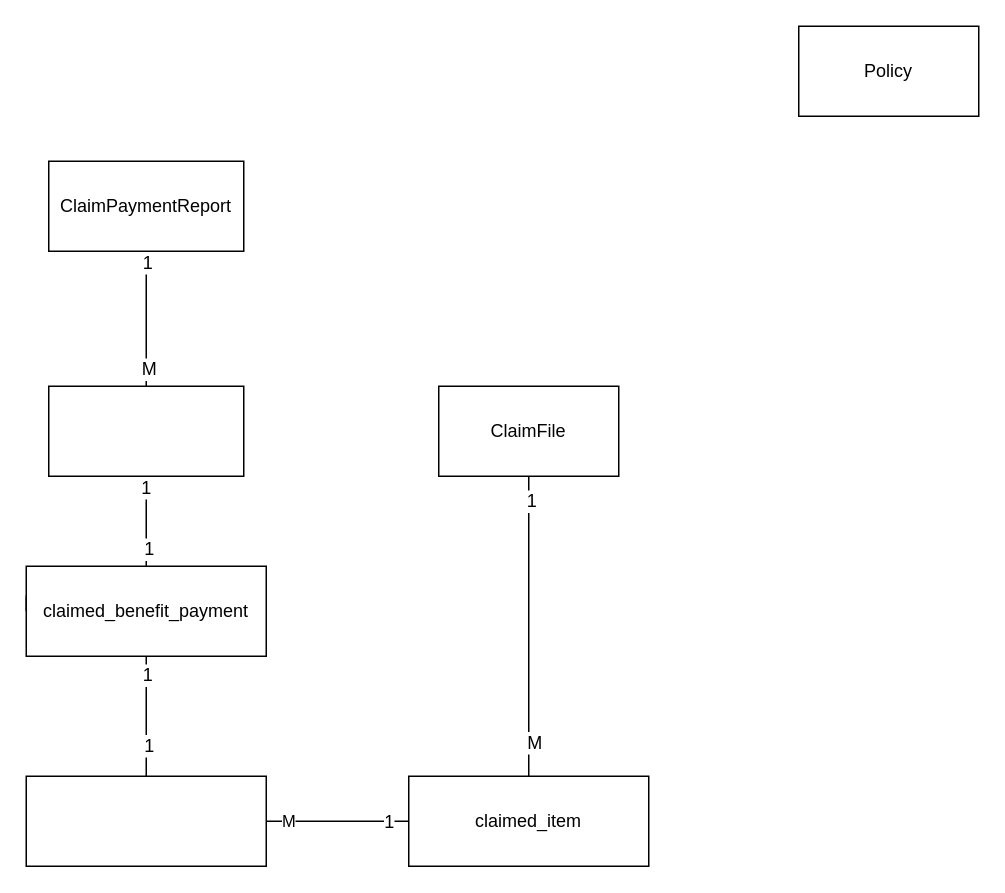
This 1005x893 diagram has some shape labels left out. Each missing label, with the box of its shape:
claimed_item_payment: (25, 775, 266, 866)
ClaimPayment: (47, 385, 244, 476)
